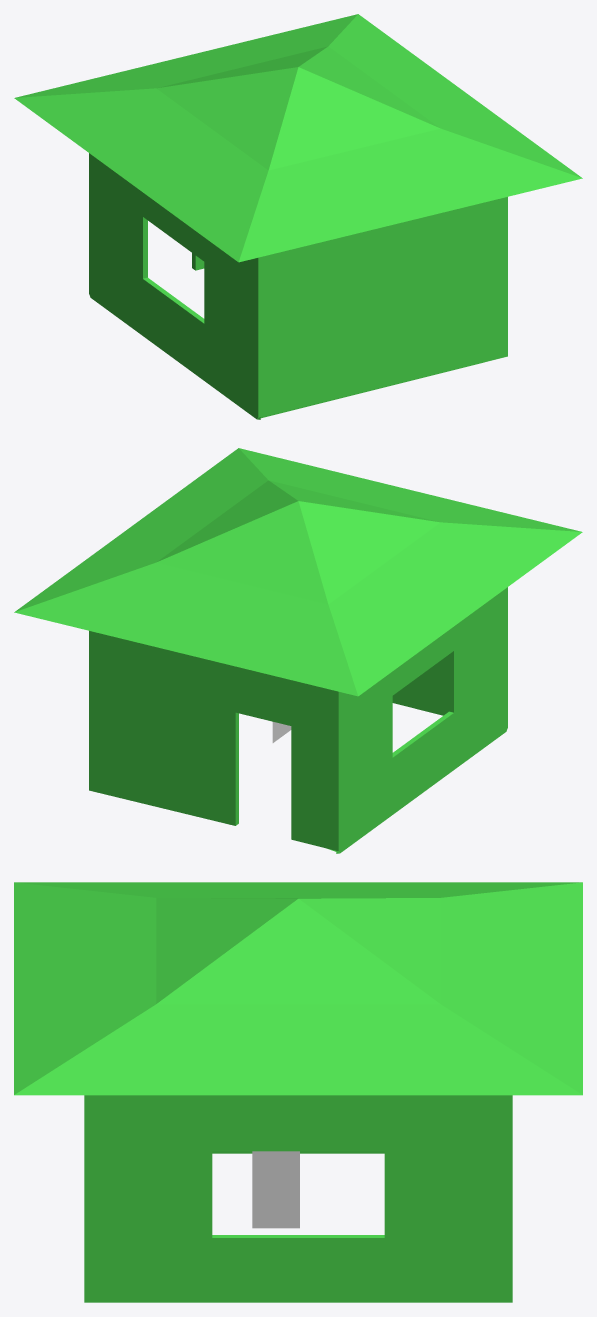
Rendered from Hut.fbx.
The picture shows the model from 3 angles, top to bottom: view 1: azimuth 30°, elevation 25°; view 2: azimuth 150°, elevation 25°; view 3: azimuth 270°, elevation 25°; orthographic projection. The views are drawn at different scales.
Visible parts, largest first — view 1: Hut; view 2: Hut; view 3: Hut.
Boxes of the visible parts, x1,y1,x2,y2 form: Hut: (14,14,582,419); Hut: (14,448,582,853); Hut: (14,882,582,1302).
Size of the model in its own units: 63.44 by 45.96 by 71.68.
